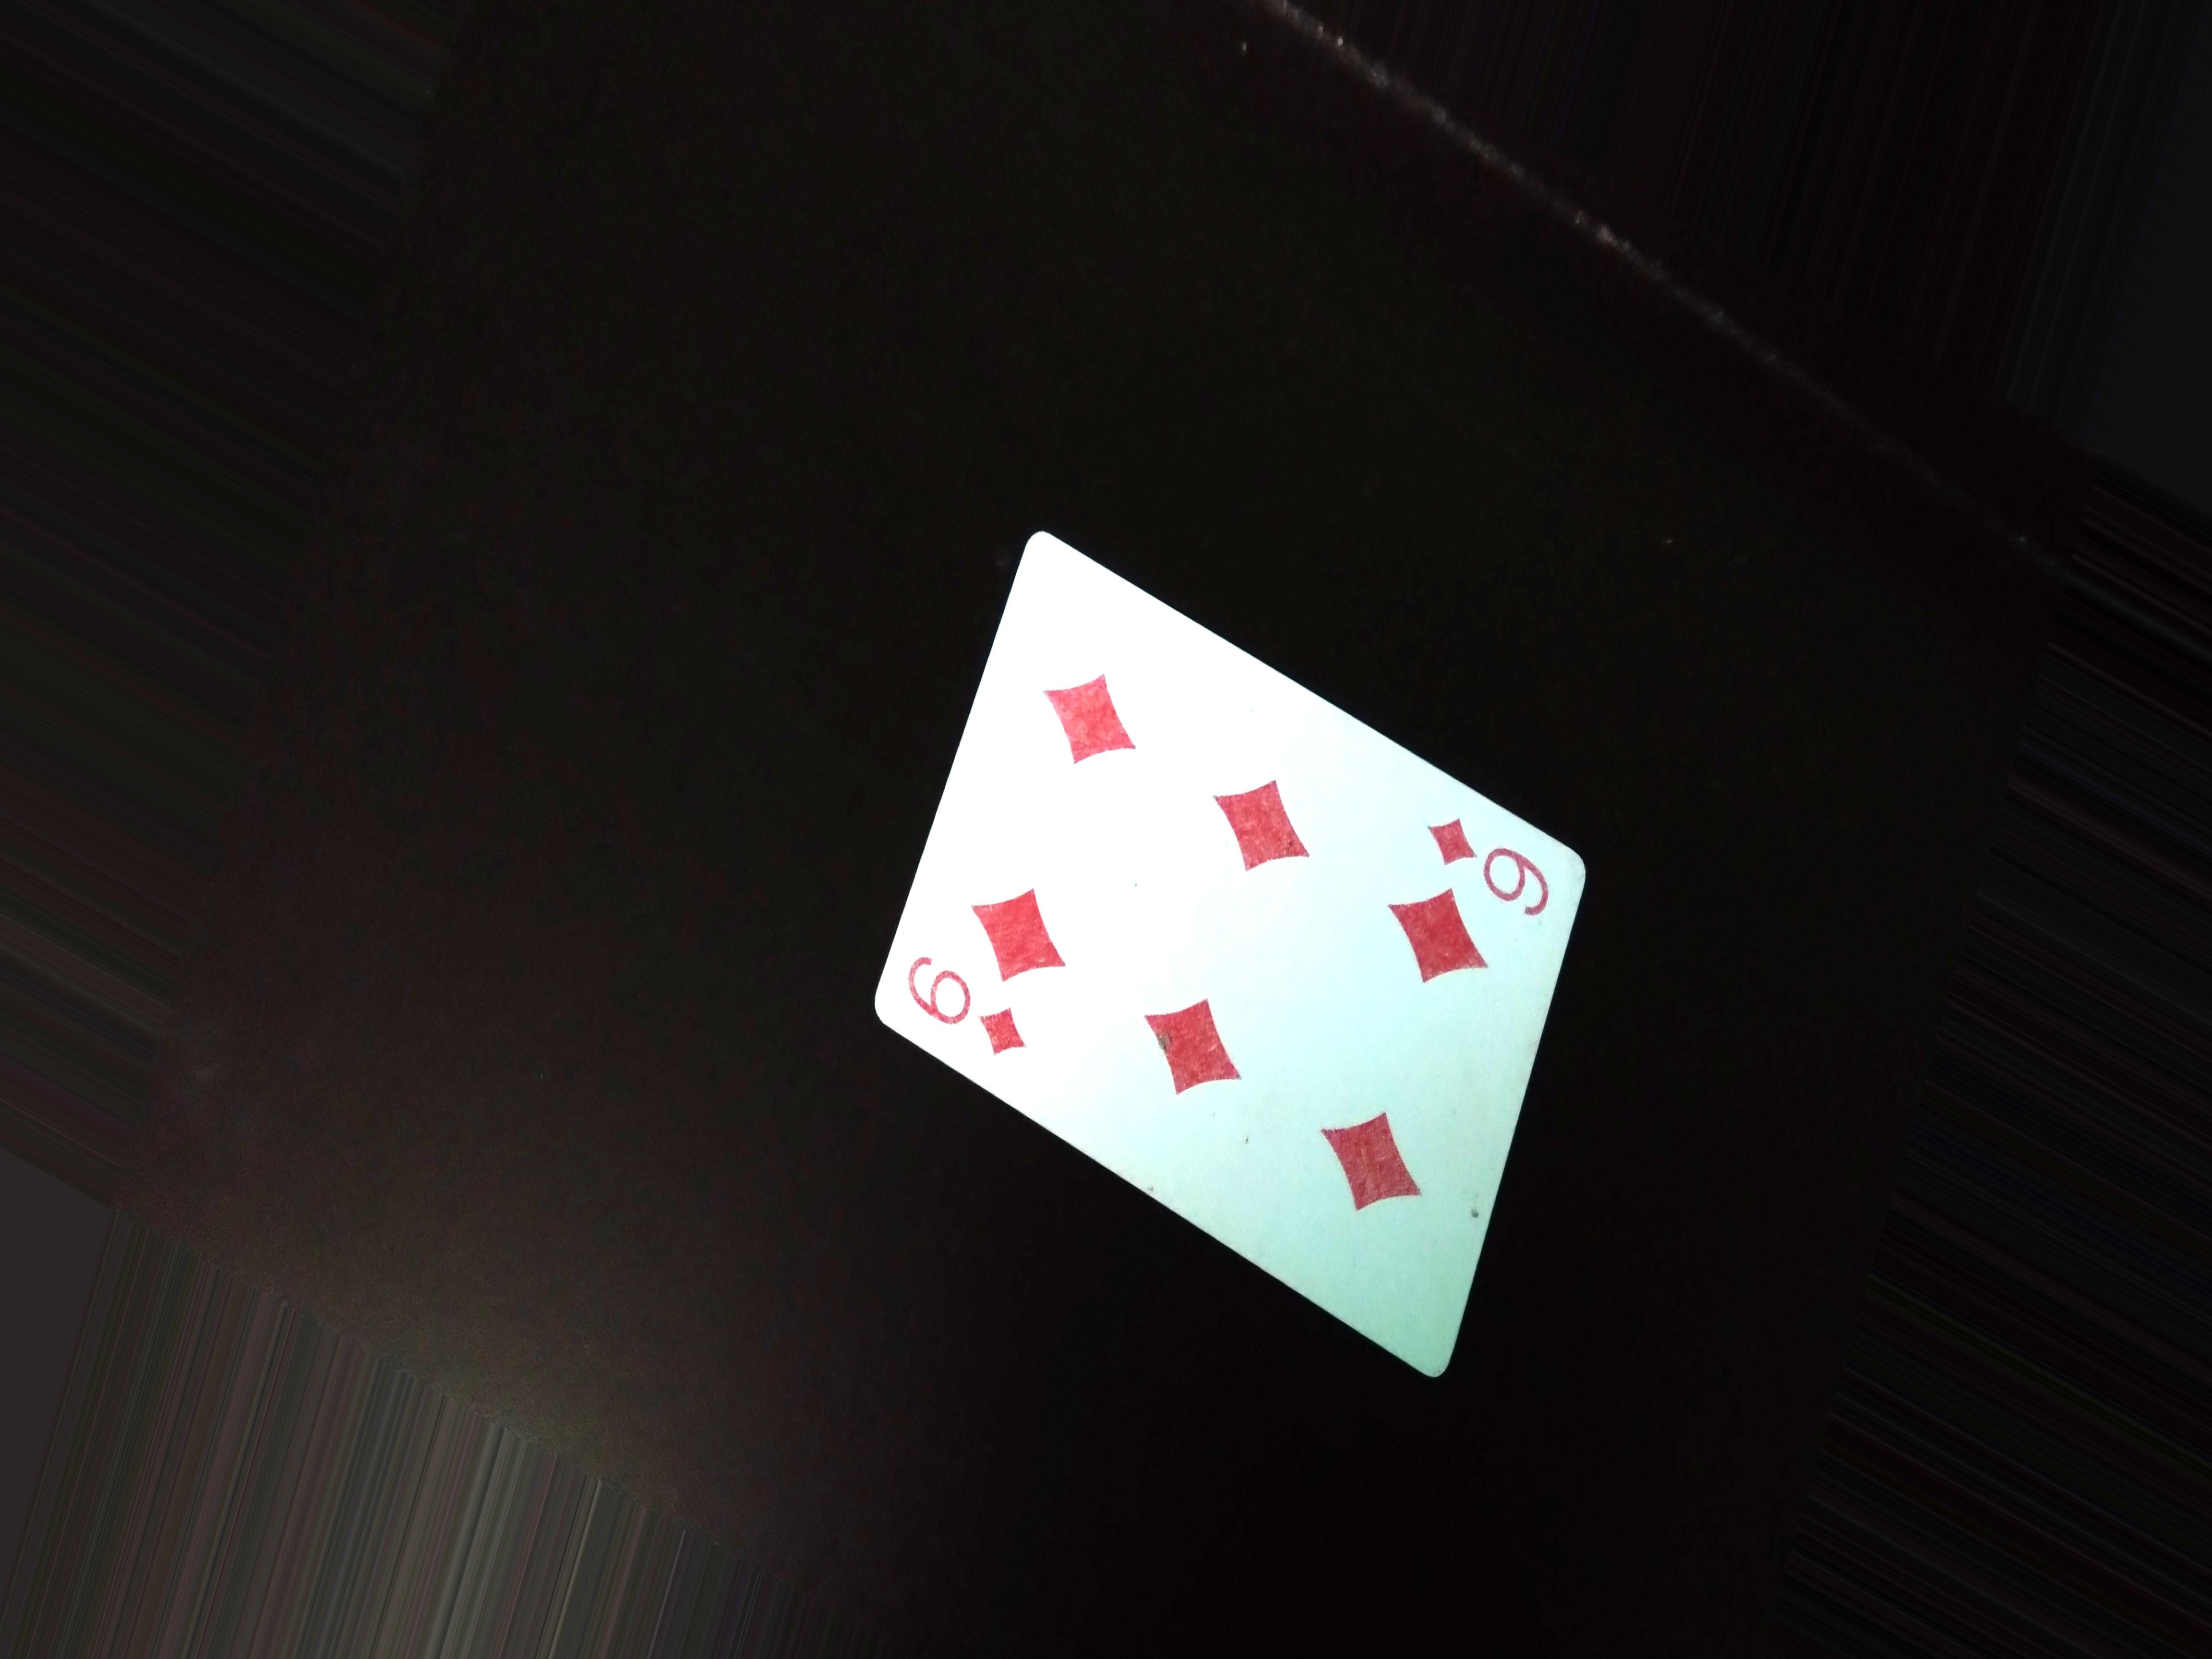6D: (904, 957, 1029, 1053)
